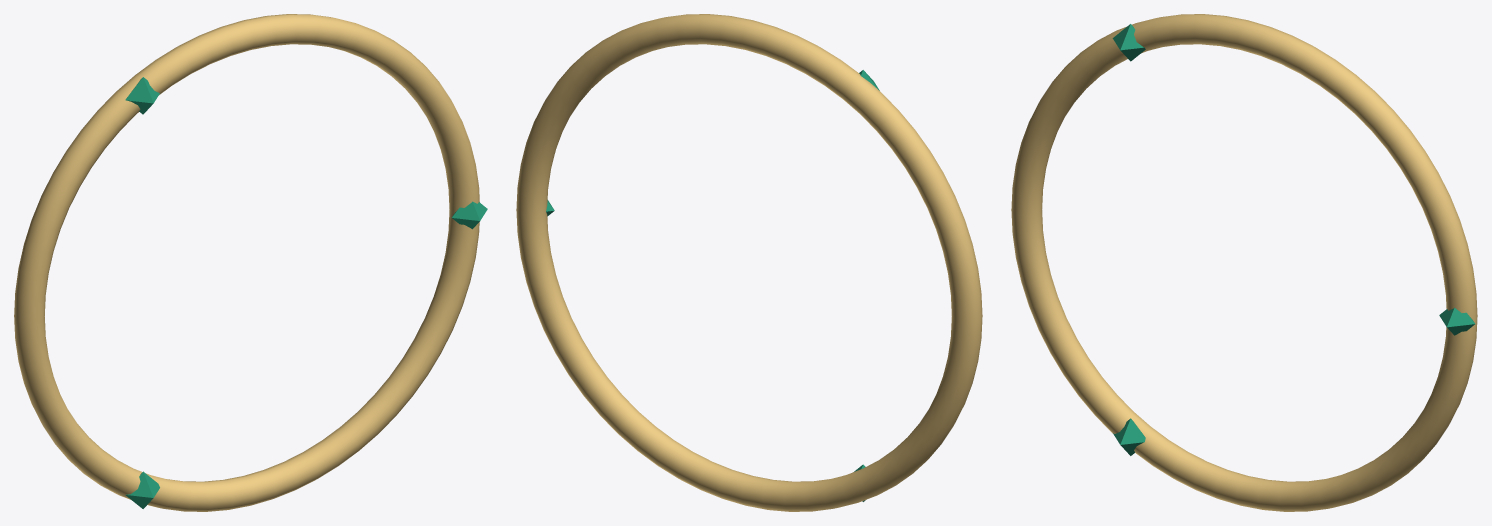
The picture shows the model from 3 angles, left to right: view 1: azimuth 30°, elevation 25°; view 2: azimuth 150°, elevation 25°; view 3: azimuth 330°, elevation 25°; orthographic projection.
Size of the model in its own units: 1.93 by 1.91 by 0.165.
